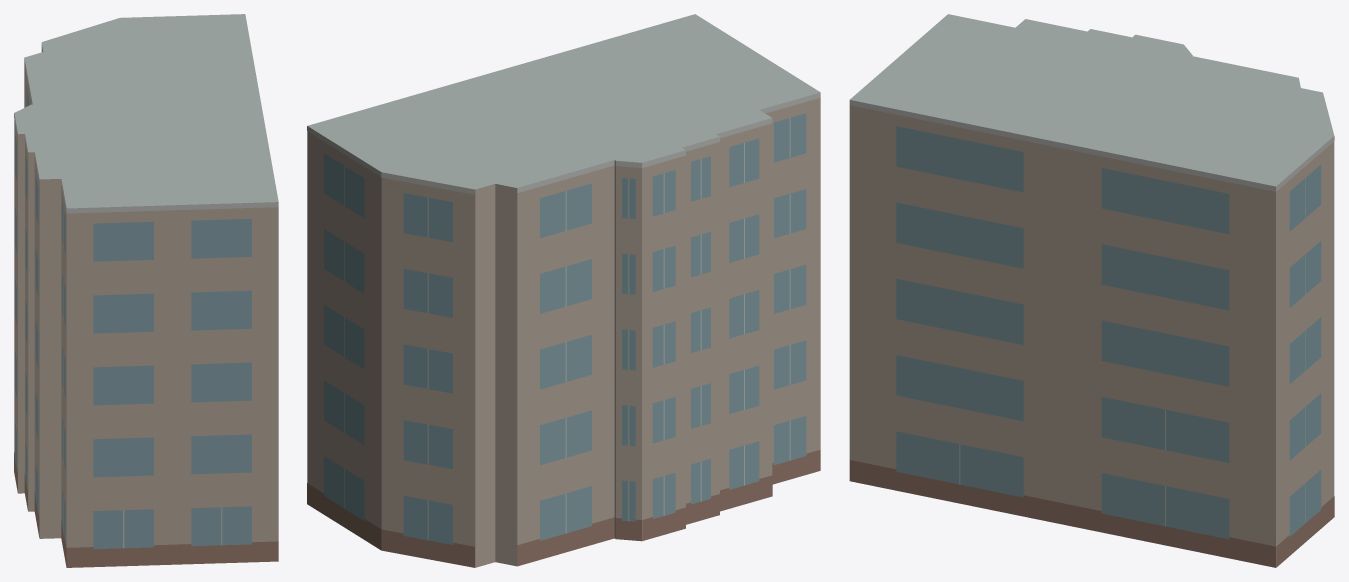
File: survey-upis-32998401.glb
The picture shows the model from 3 angles, left to right: view 1: azimuth 30°, elevation 25°; view 2: azimuth 150°, elevation 25°; view 3: azimuth 270°, elevation 25°; orthographic projection. The views are drawn at different scales.
Visible parts, largest first — view 1: survey-upis-32998401.tmp; view 2: survey-upis-32998401.tmp; view 3: survey-upis-32998401.tmp.
Part boxes in pixels (box(x1,y1,x2,y2)): survey-upis-32998401.tmp: box(14, 14, 278, 567); survey-upis-32998401.tmp: box(307, 14, 820, 567); survey-upis-32998401.tmp: box(849, 14, 1334, 567).
Size of the model in its own units: 16.87 by 17.38 by 20.04.
